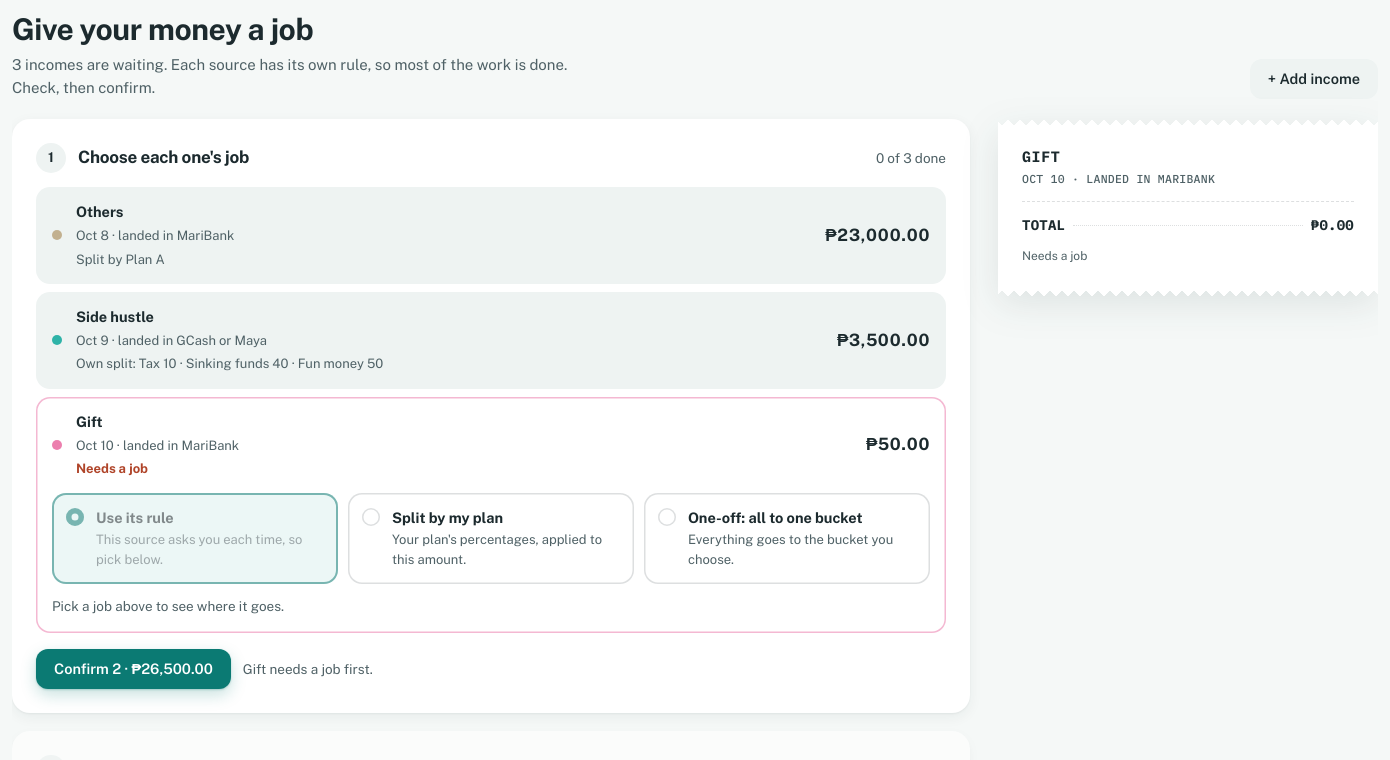
Test: Money in: Add income form › opens with focus in Amount and takes over the primary button
This screenshot has width=1390, height=760.
Click the button with test id "add-income-button" at (1314, 79), box [1250,58,1378,99]
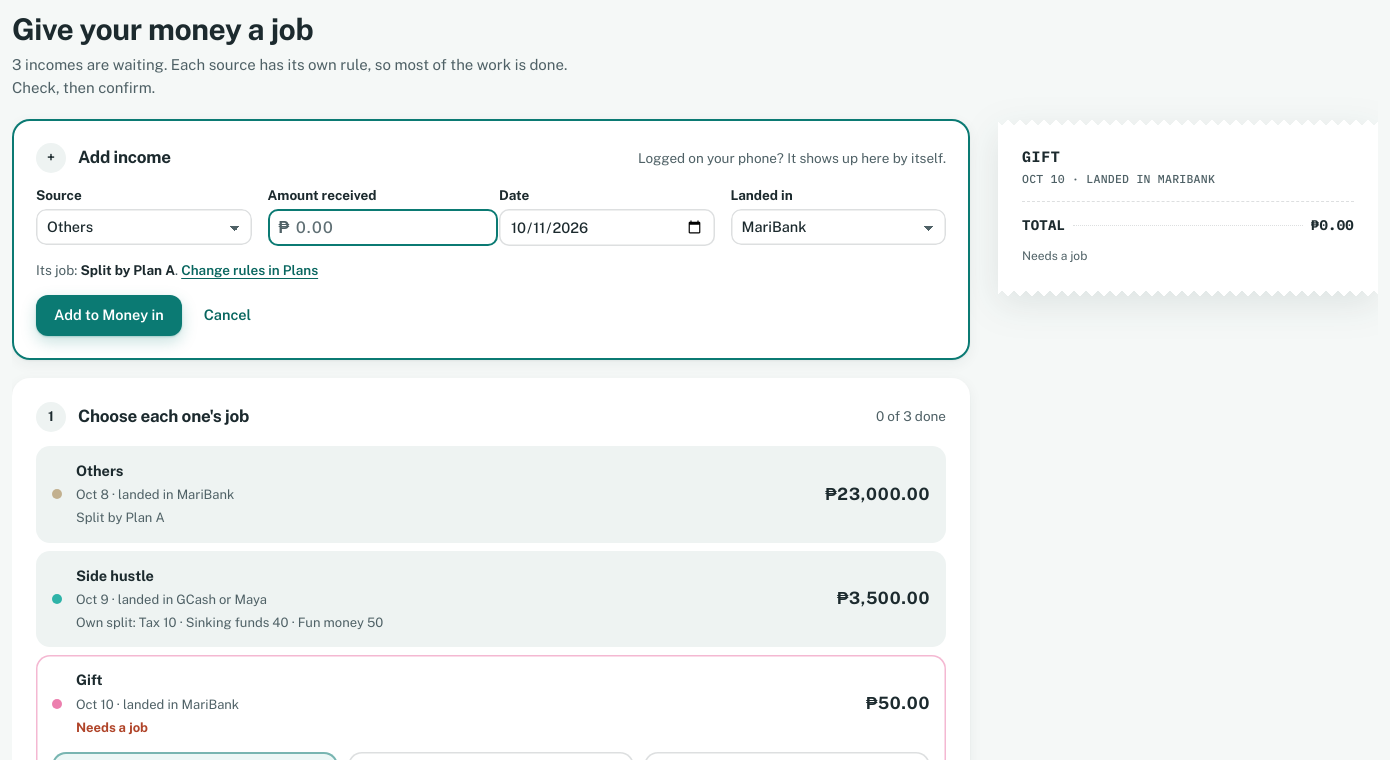
Check: the button with test id "add-income-button" is gone
Check: the button "Add to Money in" is shown, box [36,295,182,336]
